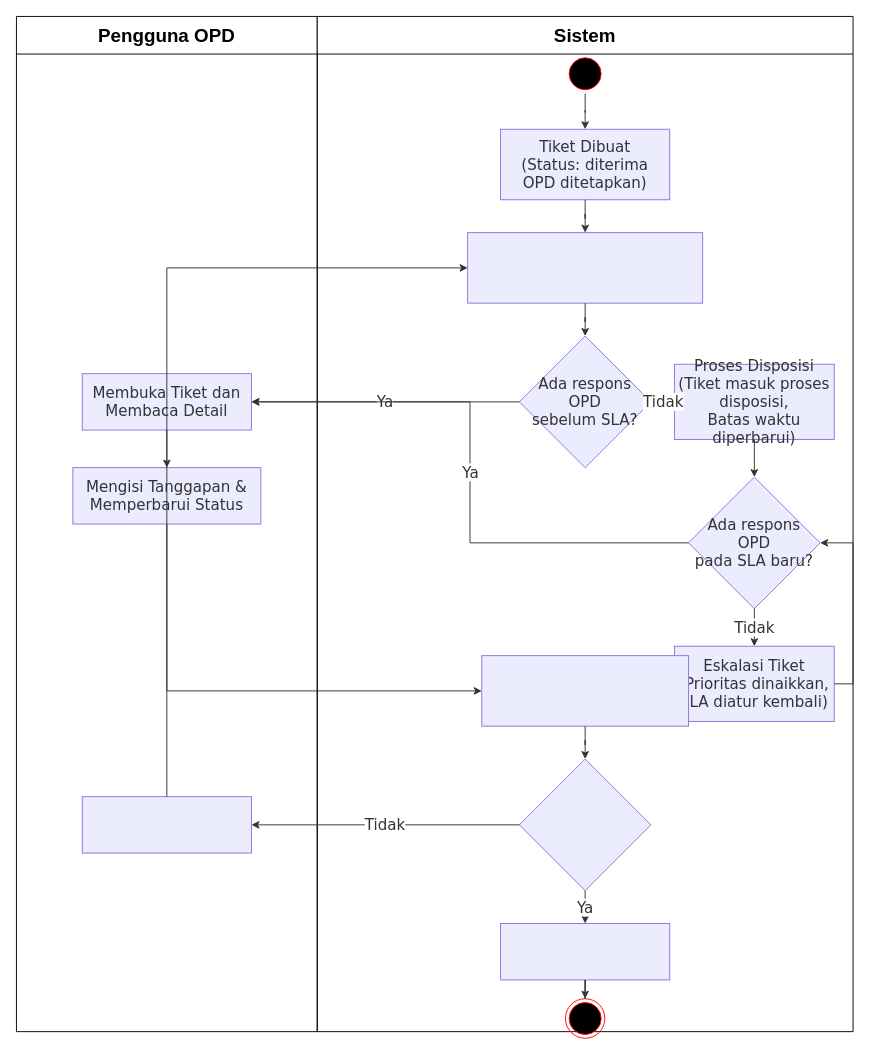
Some shapes in this 877 by 1055 pixel diagram are drawn without their labels. The centre of each missing label's shape, as x and y in pixels:
"Lanjut Tiket dan Tindak Lanjut oleh OPD" belongs at (166,824).
"Perbarui Status selesai" belongs at (585,951).
"Simpan Tanggapan dan Perbarui Status (Riwayat penanganan dicatat)" belongs at (585,690).
"Tiket Diteruskan atau Dibaca oleh OPD (Batas waktu SLA penanganan ditetapkan)" belongs at (585,267).
"Tiket selesai?" belongs at (584,824).
